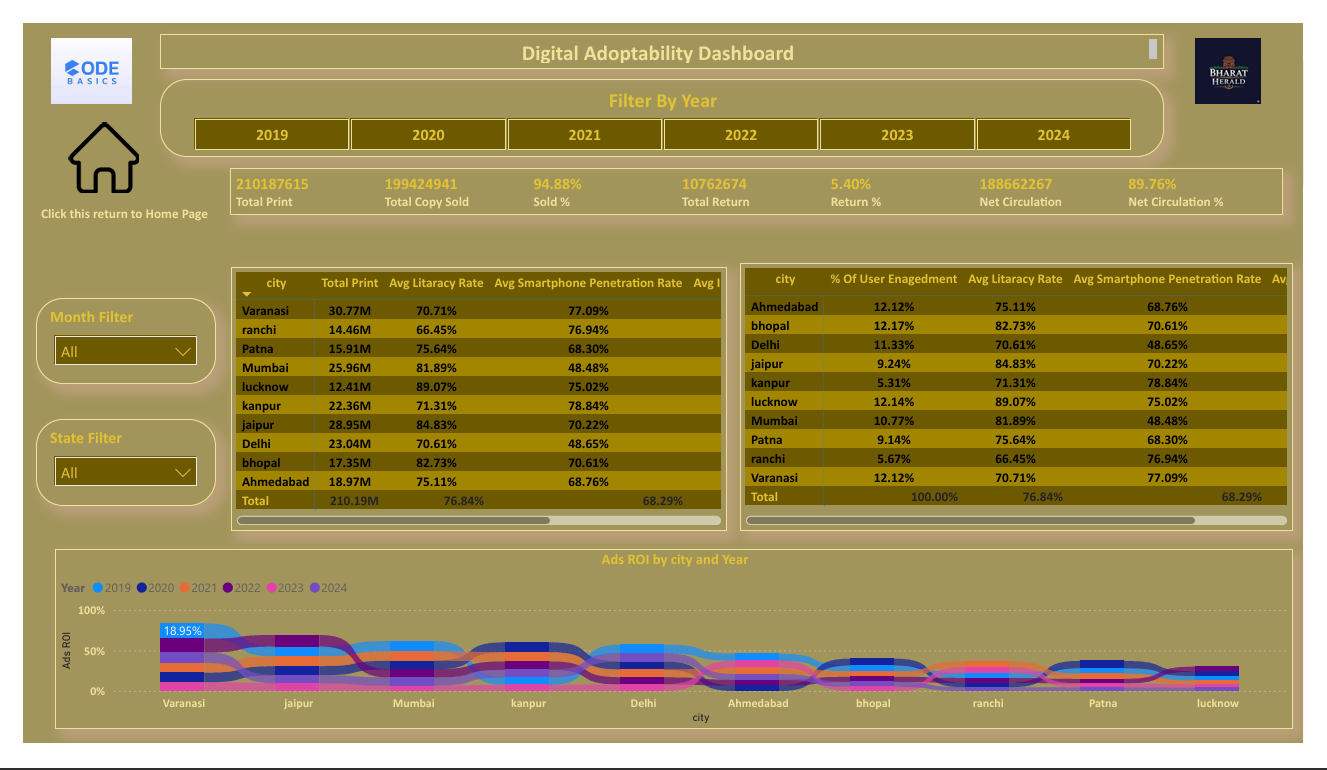

The dashboard page shown, as its layout file describes it:
{"tool":"powerbi","page":{"name":"Digital Dashboard","canvas":[1280,720],"ordinal":4},"visuals":[{"type":"textbox","box":[136.2,9.7,1003.8,35],"z":0},{"type":"image","box":[0,9.7,136.2,75.9],"z":1000},{"type":"image","box":[1130.2,9.7,149.8,75.9],"z":2000},{"type":"slicer","title":"Filter By Year","fields":{"Values":["UniqueYear.Year"]},"box":[136.2,55.4,1003.8,77.8],"z":3000},{"type":"multiRowCard","fields":{"Values":["Report_Measure.Total Print","Report_Measure.Total Copy Sold","Report_Measure.Sold %","Report_Measure.Total Return","Report_Measure.Return %","Report_Measure.Net Circulation","Report_Measure.Net Circulation %"]},"box":[206.2,144,1052.4,46.7],"z":4000},{"type":"slicer","title":"State Filter","fields":{"Values":["Dim_City.state"]},"box":[11.5,395.5,180.9,86.9],"z":5000},{"type":"slicer","title":"Month Filter","fields":{"Values":["Fact_PrintSales.NewMonth"]},"box":[11.5,274,180.9,86],"z":6000},{"type":"ribbonChart","fields":{"Category":["Dim_City.city"],"Y":["Ads Revenue Measure.Ads ROI"],"Series":["UniqueYear.Year"]},"box":[31,524.9,1237.8,180],"z":7000},{"type":"pivotTable","fields":{"Rows":["Dim_City.city"],"Values":["Print Measure.Total Print","City Readiness Measure.Avg Litaracy Rate","City Readiness Measure.Avg Smartphone Penetration Rate","City Readiness Measure.Avg Internate User","City Readiness Measure.% Of User Enagedment"]},"box":[206.6,243,496.6,264.2],"z":8000},{"type":"pivotTable","fields":{"Rows":["Dim_City.city"],"Values":["City Readiness Measure.% Of User Enagedment","City Readiness Measure.Avg Litaracy Rate","City Readiness Measure.Avg Smartphone Penetration Rate","City Readiness Measure.Avg Internate User"]},"box":[716.5,239.4,552.4,267.8],"z":9000},{"type":"image","box":[39.9,94,80.7,80.7],"z":10000},{"type":"textbox","box":[11.5,174.7,180.9,35.5],"z":11000}]}

Visuals, with their boxes on the page's 1280x720 design canvas (x1, y1, x2, y2). These are canvas units, not pixel positions in the 1327x770 screenshot, which may show the page scaled, cropped or inside an application window:
textbox: crop(136, 10, 1140, 45)
image: crop(0, 10, 136, 86)
image: crop(1130, 10, 1280, 86)
"Filter By Year" slicer: crop(136, 55, 1140, 133)
multiRowCard - Report_Measure.Total Print x Report_Measure.Total Copy Sold: crop(206, 144, 1259, 191)
"State Filter" slicer: crop(12, 396, 192, 482)
"Month Filter" slicer: crop(12, 274, 192, 360)
ribbonChart - Dim_City.city x Ads Revenue Measure.Ads ROI: crop(31, 525, 1269, 705)
pivotTable - Dim_City.city x Print Measure.Total Print: crop(207, 243, 703, 507)
pivotTable - Dim_City.city x City Readiness Measure.% Of User Enagedment: crop(716, 239, 1269, 507)
image: crop(40, 94, 121, 175)
textbox: crop(12, 175, 192, 210)
